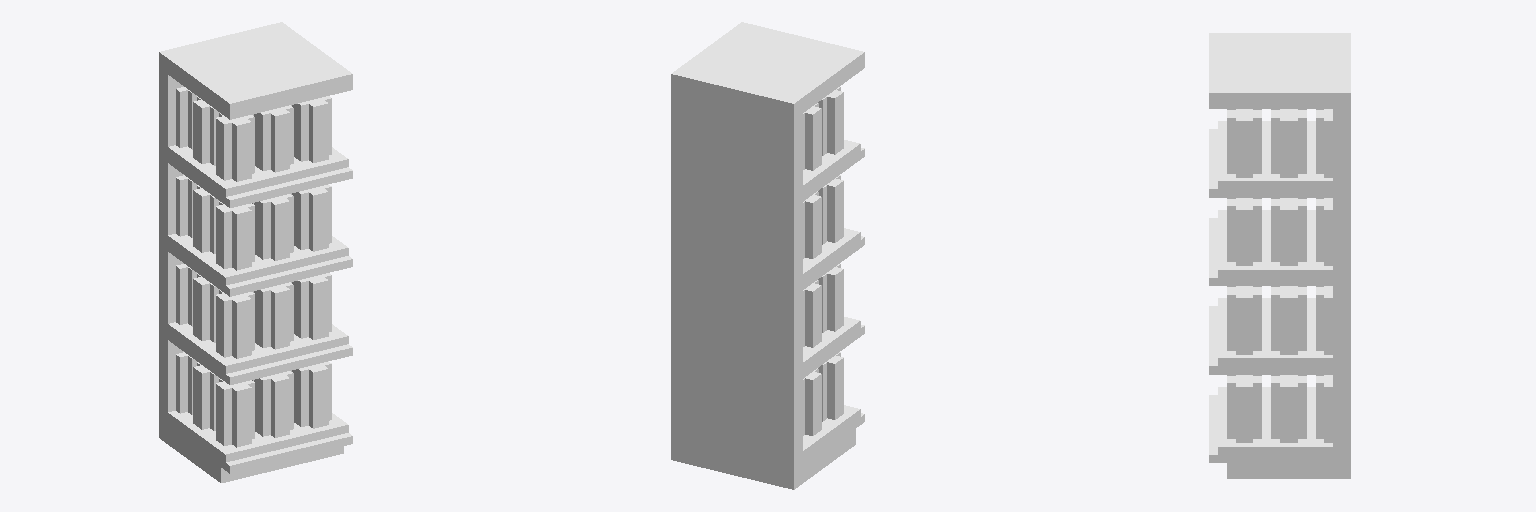
The model's file is fullBeansShelf.obj.
3 renders of one model, left to right at view 1: azimuth 30°, elevation 25°; view 2: azimuth 150°, elevation 25°; view 3: azimuth 270°, elevation 25°, orthographic.
Parts seen in each view (by area): view 1: object 1; view 2: object 1; view 3: object 1.
Part boxes in pixels (x1,y1,x2,y2): object 1: (159,22,352,482); object 1: (671,22,864,489); object 1: (1209,33,1350,478).
Bounding box in the file's own units: 1.6 × 4.8 × 1.6.